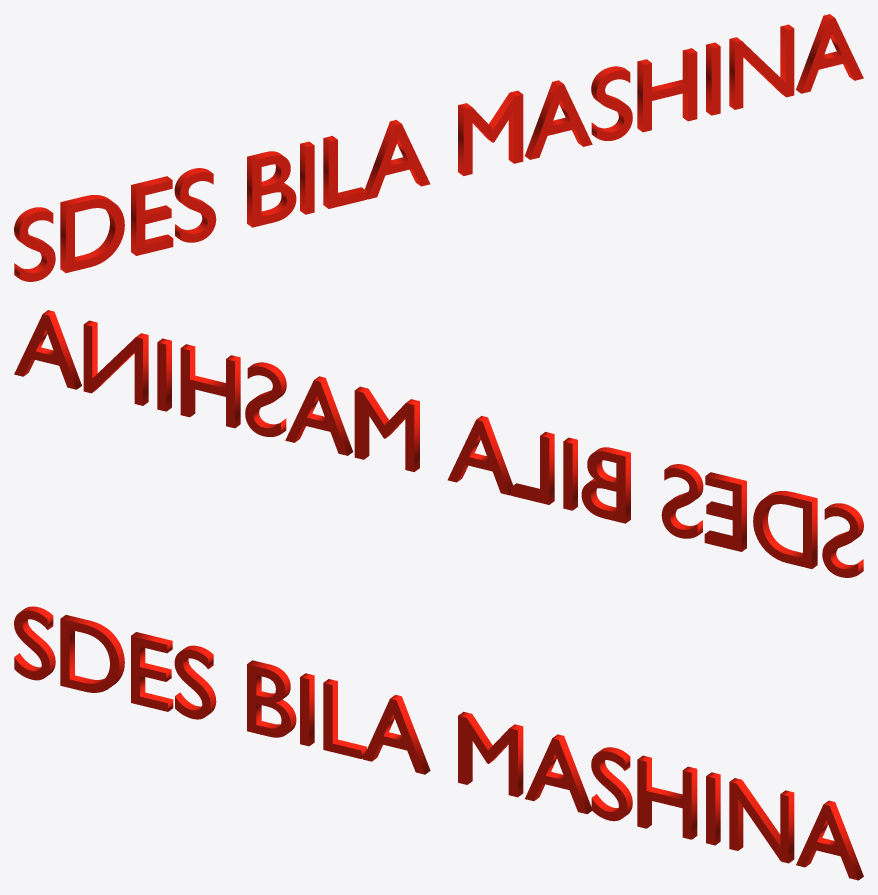
The model's file is Это машина.fbx.
The picture shows the model from 3 angles, top to bottom: view 1: azimuth 30°, elevation 25°; view 2: azimuth 150°, elevation 25°; view 3: azimuth 330°, elevation 25°; orthographic projection.
Visible parts, largest first — view 1: Text; view 2: Text; view 3: Text.
Part boxes in pixels (<box>): Text: <box>14,14,863,281</box>; Text: <box>14,310,863,577</box>; Text: <box>14,606,863,880</box>.
Size of the model in its own units: 89850 by 7000 by 1000.
